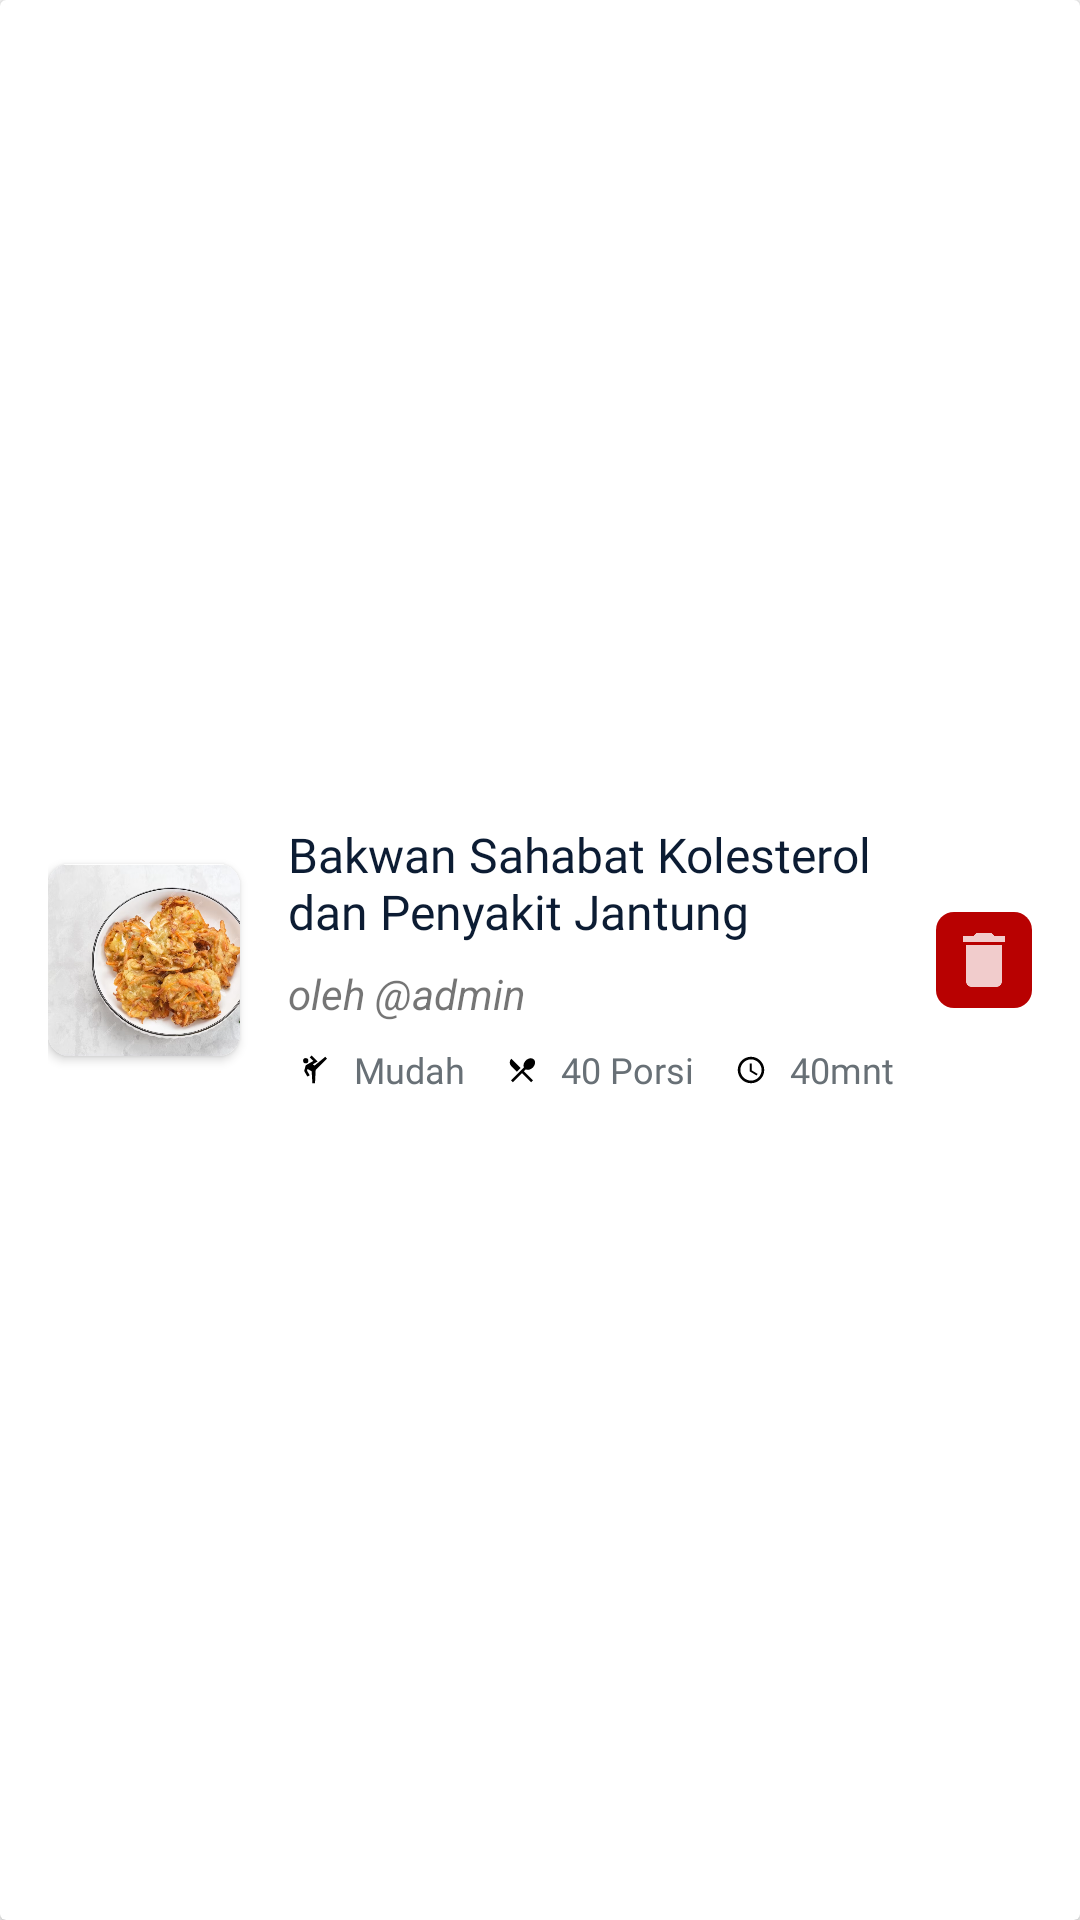

Icon bounding boxes for this 1080px x 1920px phone screenshot, format box(x1, y1, x2, y2):
portion: box(509, 1058, 535, 1082)
time: box(737, 1056, 765, 1084)
trashbin: box(936, 912, 1032, 1008)
